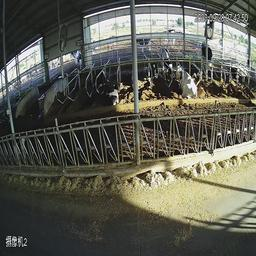cow: (95, 71, 123, 111), (174, 63, 202, 102), (202, 38, 219, 81), (161, 42, 176, 76), (146, 54, 162, 77)
